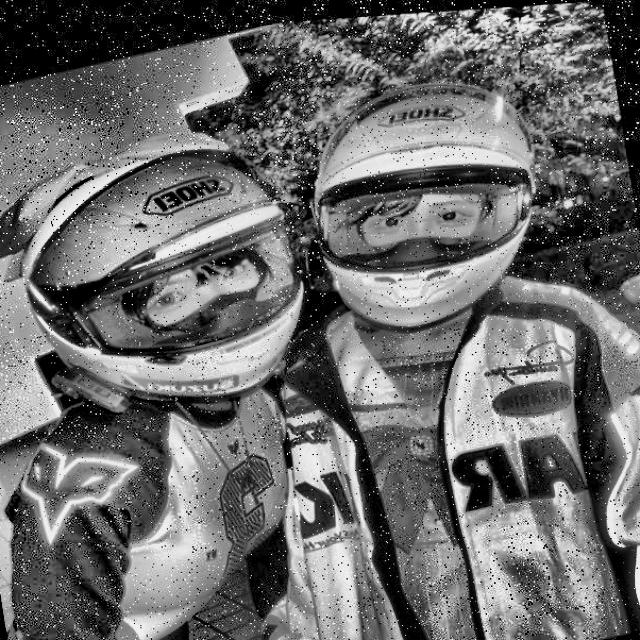Helmet: (0, 112, 326, 441), (288, 50, 569, 352)
